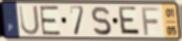7: (69, 5, 85, 36)
E: (38, 5, 62, 36), (118, 6, 142, 37)
F: (141, 6, 161, 37)
S: (90, 5, 113, 37)
U: (17, 4, 41, 36)
